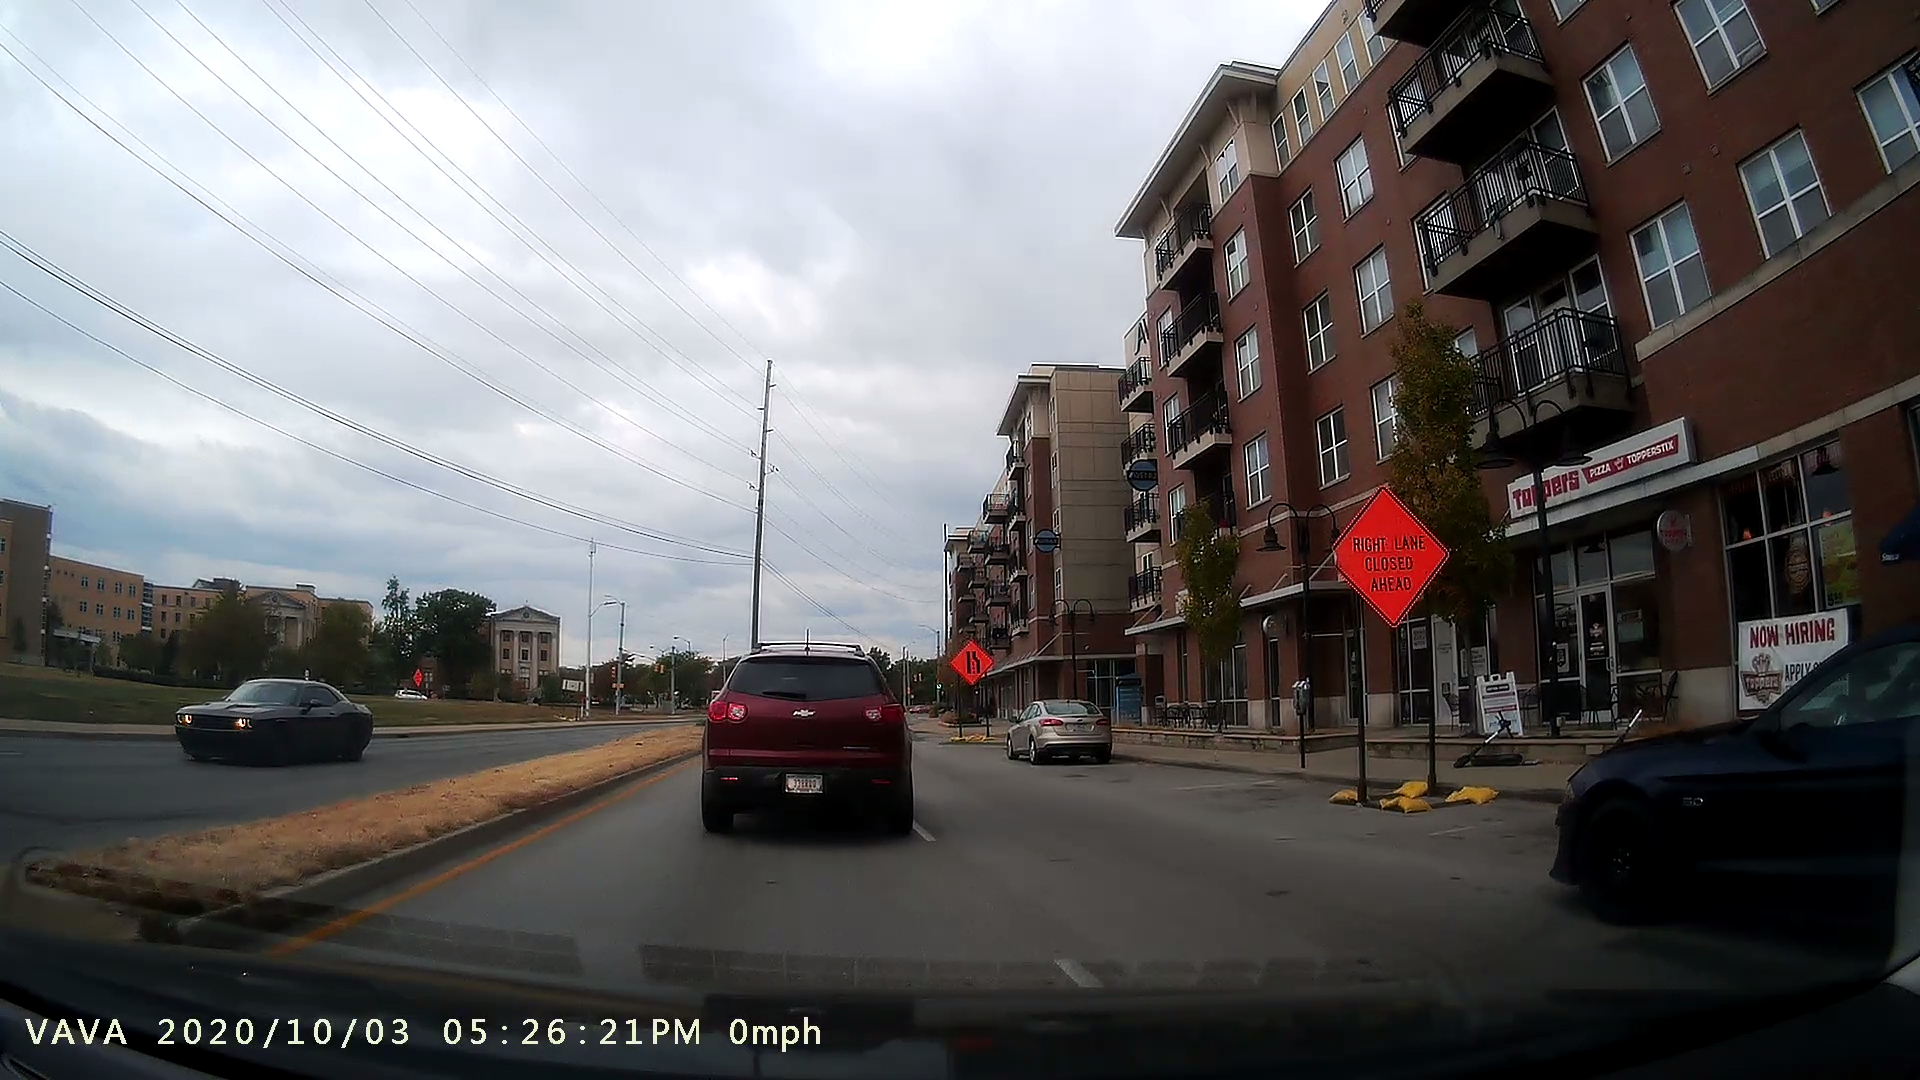ttcs_right_lane_closed_ahead: (1319, 462, 1465, 807)
ttcs_right_lane_reduction: (942, 621, 997, 745)
